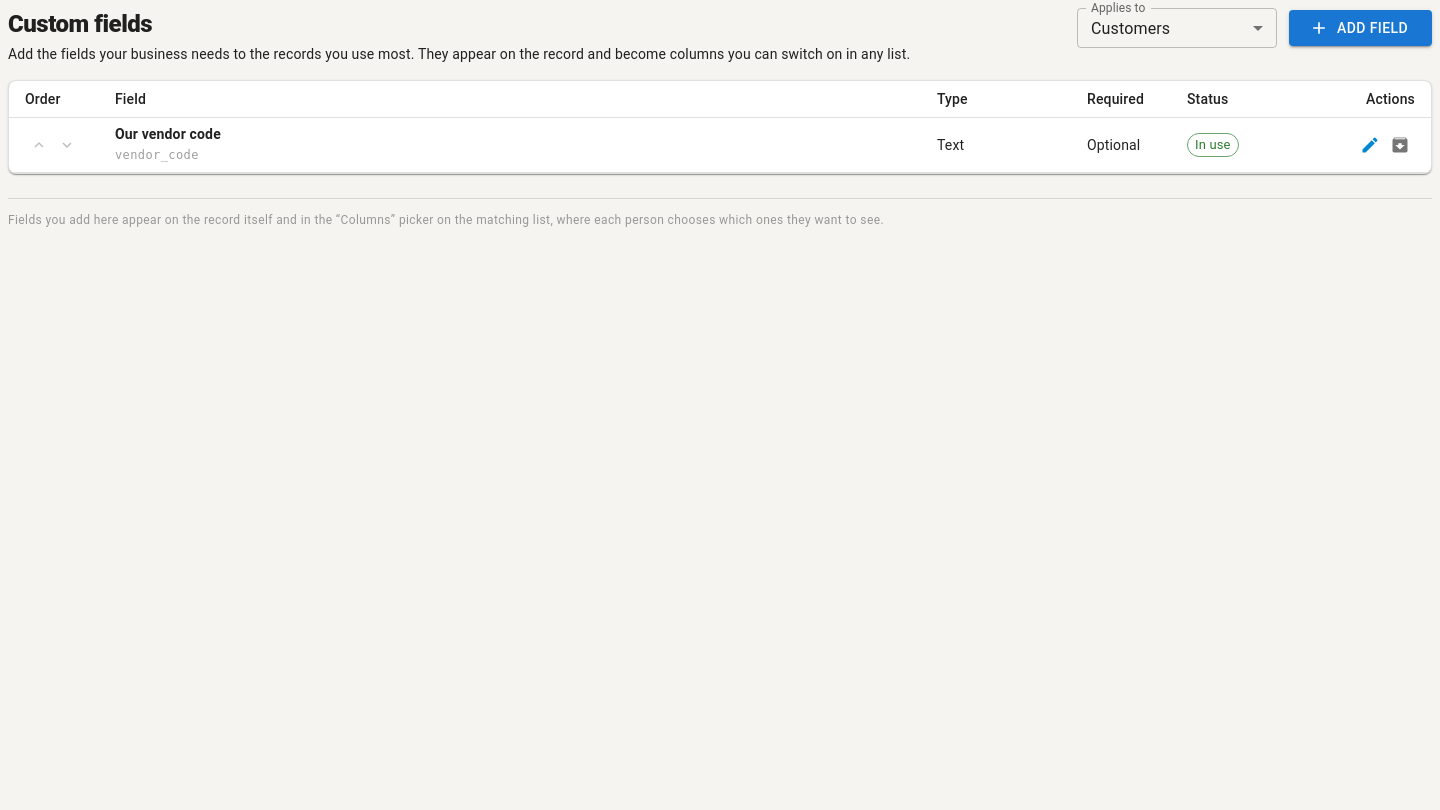
Test: CustomFieldsPage › warns before a data-type change that the server may refuse
This screenshot has width=1440, height=810.
Expected: the text "Our vendor code" is shown, x1=115 y1=126 x2=221 y2=142
Click the button named "Edit vendor_code". click: (1370, 145)
box: x1=1355 y1=130 x2=1385 y2=160
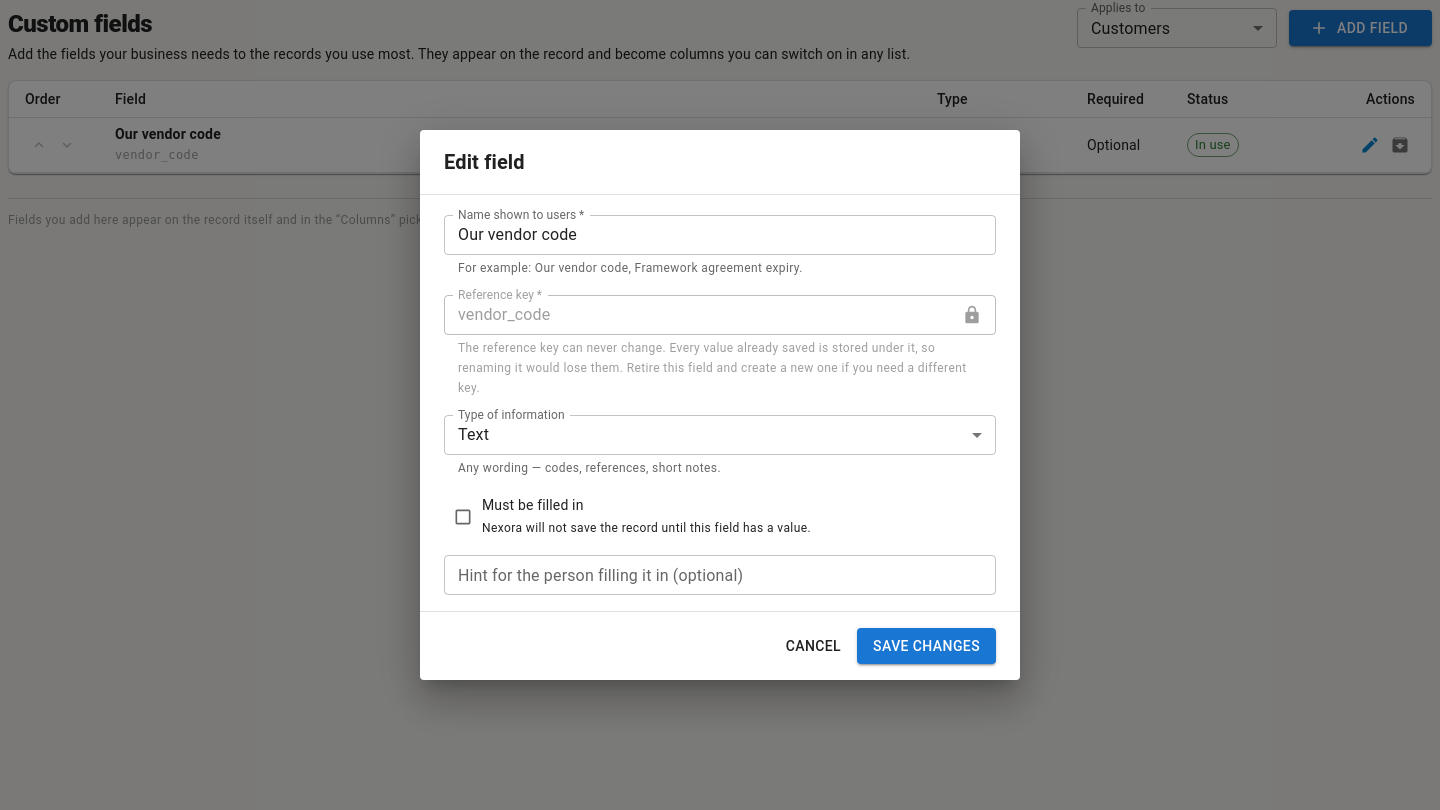
Expected: the text "Nexora will refuse this change" is not shown
Press the mouse on the dropdown named "Type of information" at (474, 435), box x1=458 y1=425 x2=489 y2=444
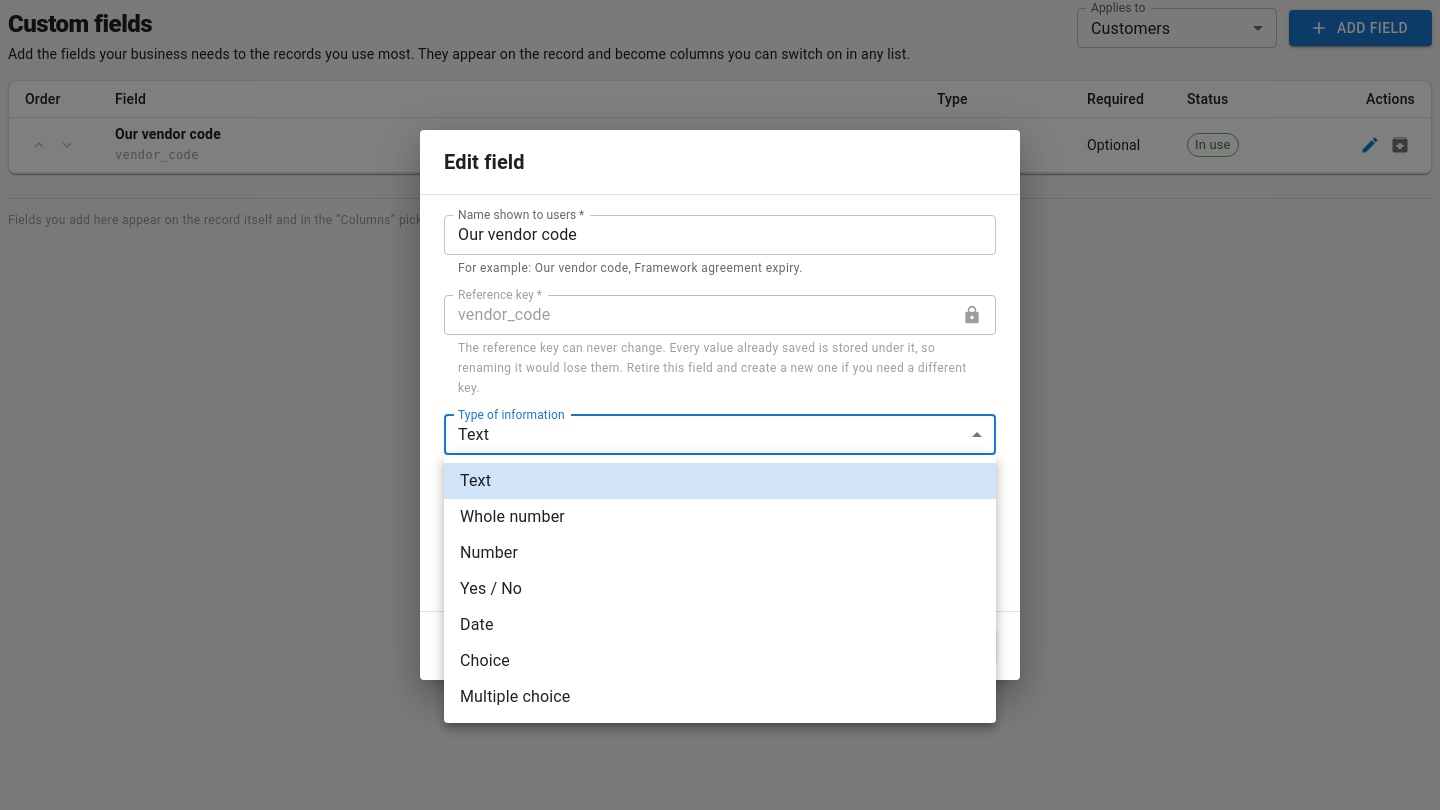
Click the option "Number". click: (489, 552)
box: x1=460 y1=543 x2=518 y2=562
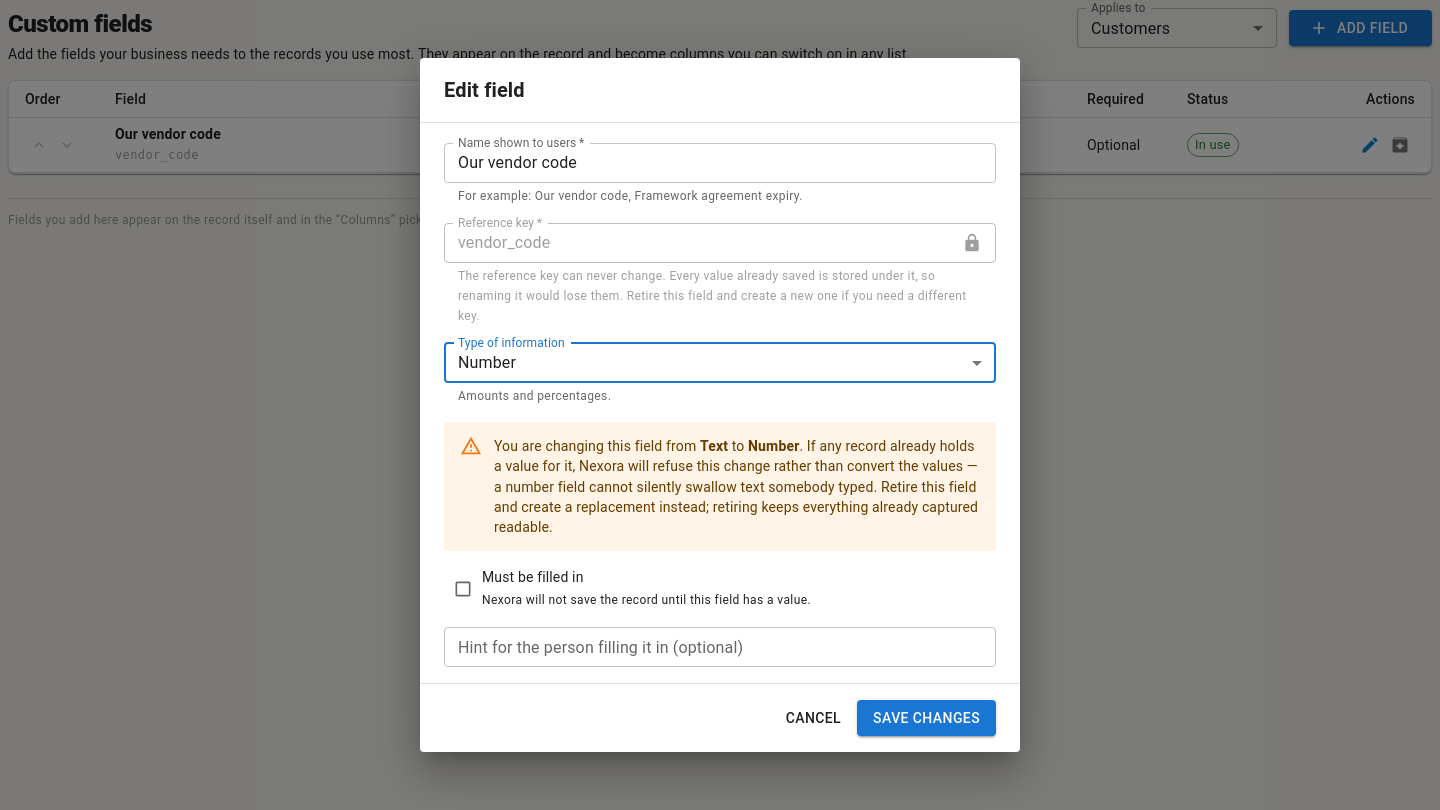
Result: the text "Nexora will refuse this change" is shown at x1=494 y1=438 x2=978 y2=535
